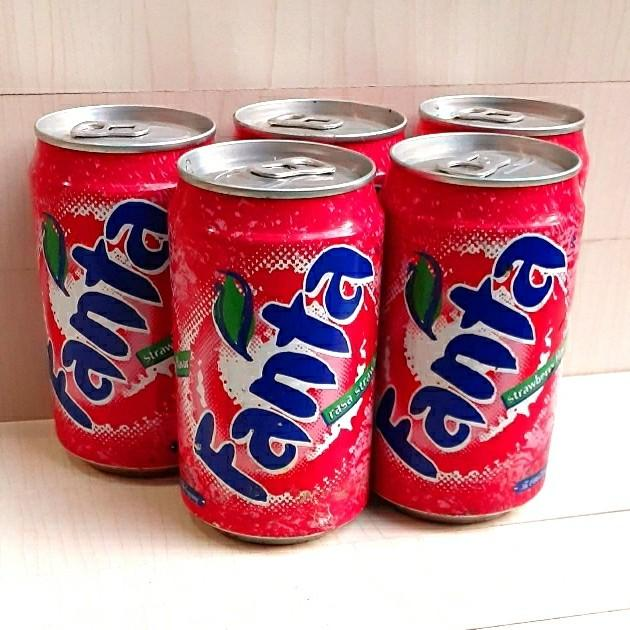metal: (27, 96, 591, 548)
